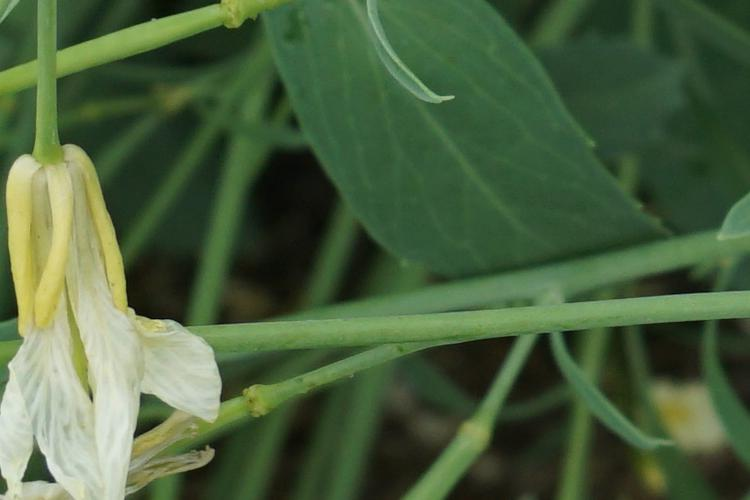white: (13, 130, 222, 484)
